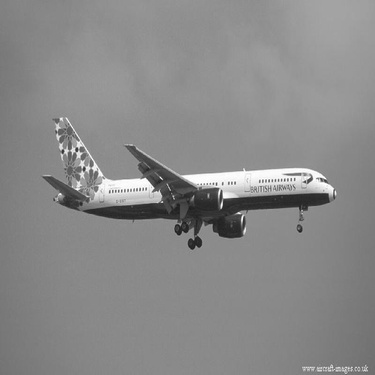airplane: (45, 112, 343, 252)
